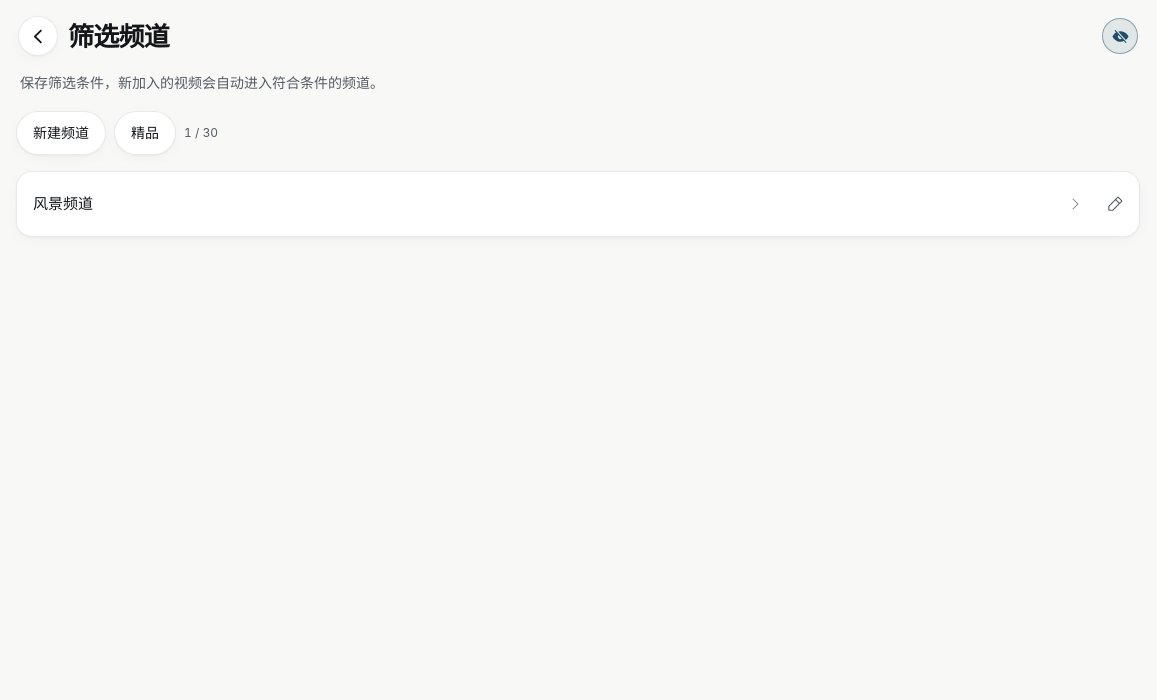
Test: requires an explicit channel retry after an error and ignores responses after selecting another channel
The width and height of the screenshot is (1157, 700).
Click the button "风景频道" at (63, 203), box [21,176,1095,232]
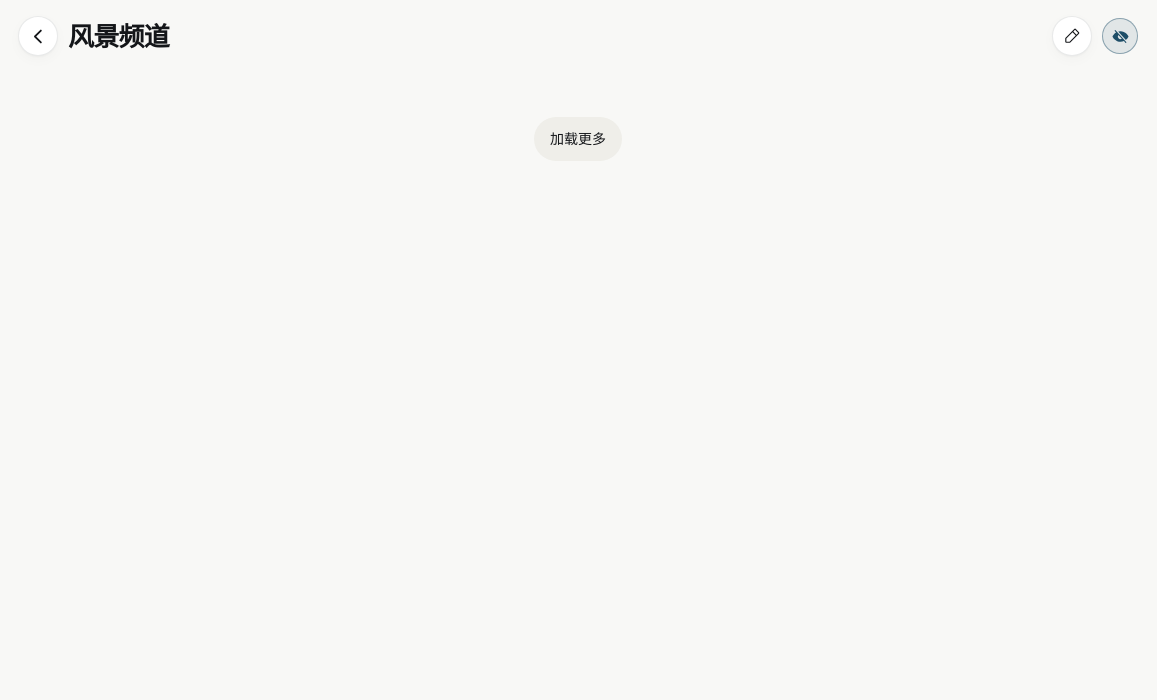
Click the button named "返回频道列表" at (38, 36), box [18,16,58,56]
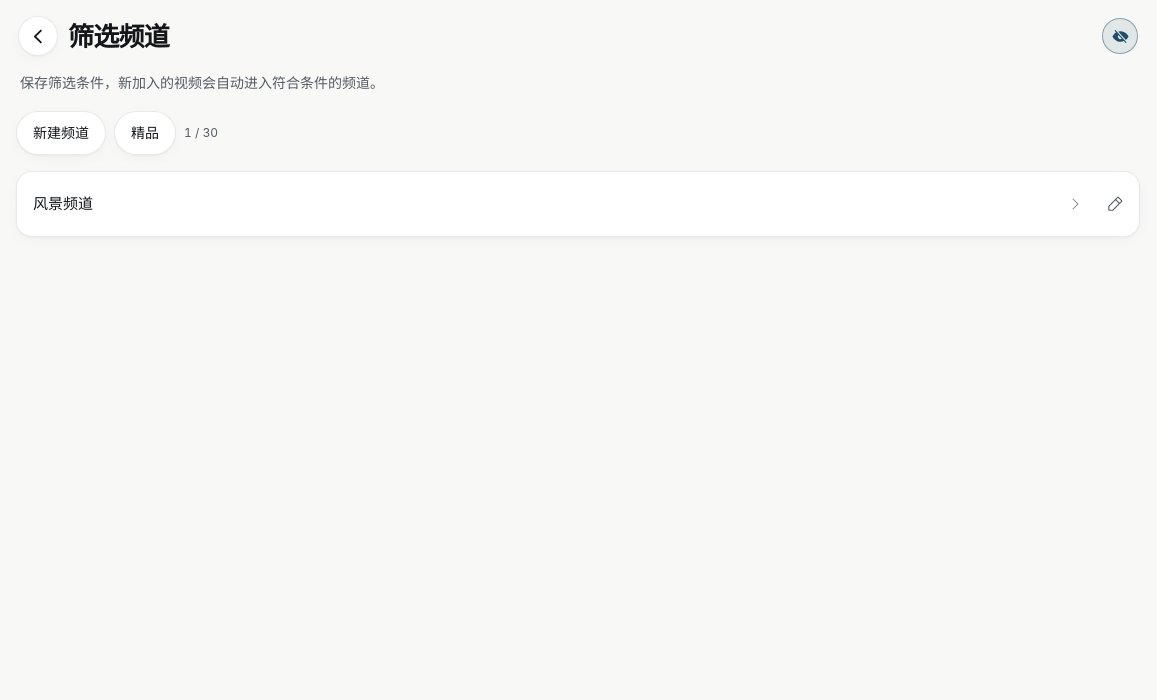
Click the button "精品" at (145, 133), box [114,111,176,155]
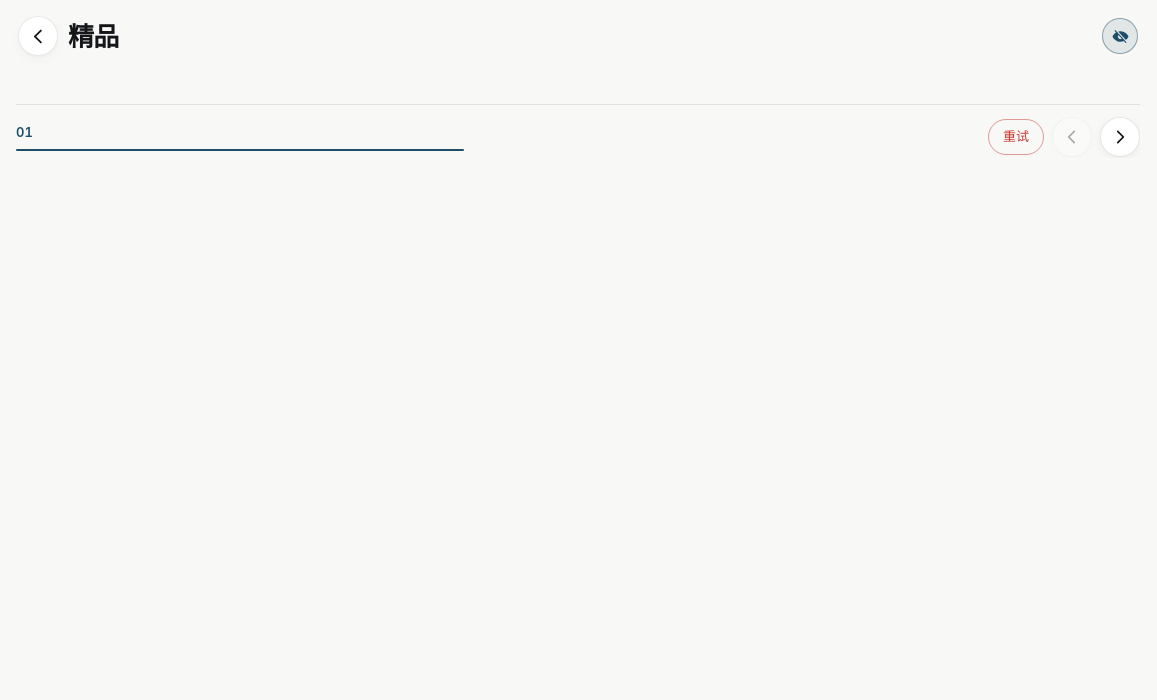
Click the button "重试" at (1016, 137), box [988,119,1044,155]
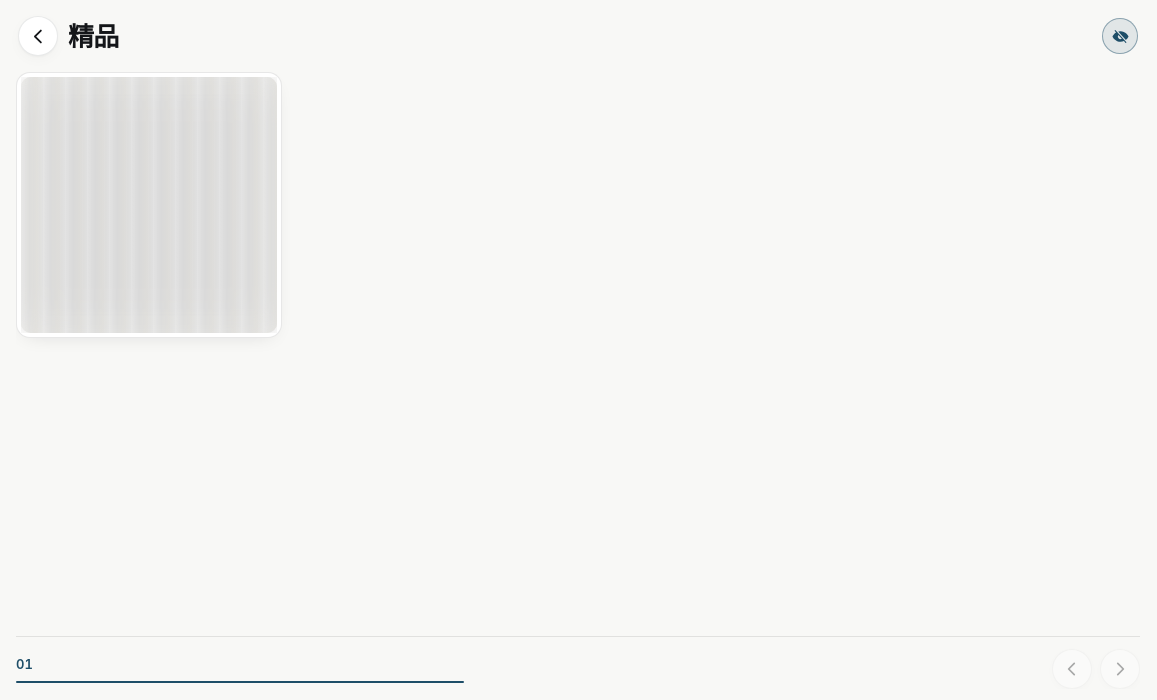
Expected: the number of pictures is 1, [21,77,277,333]
